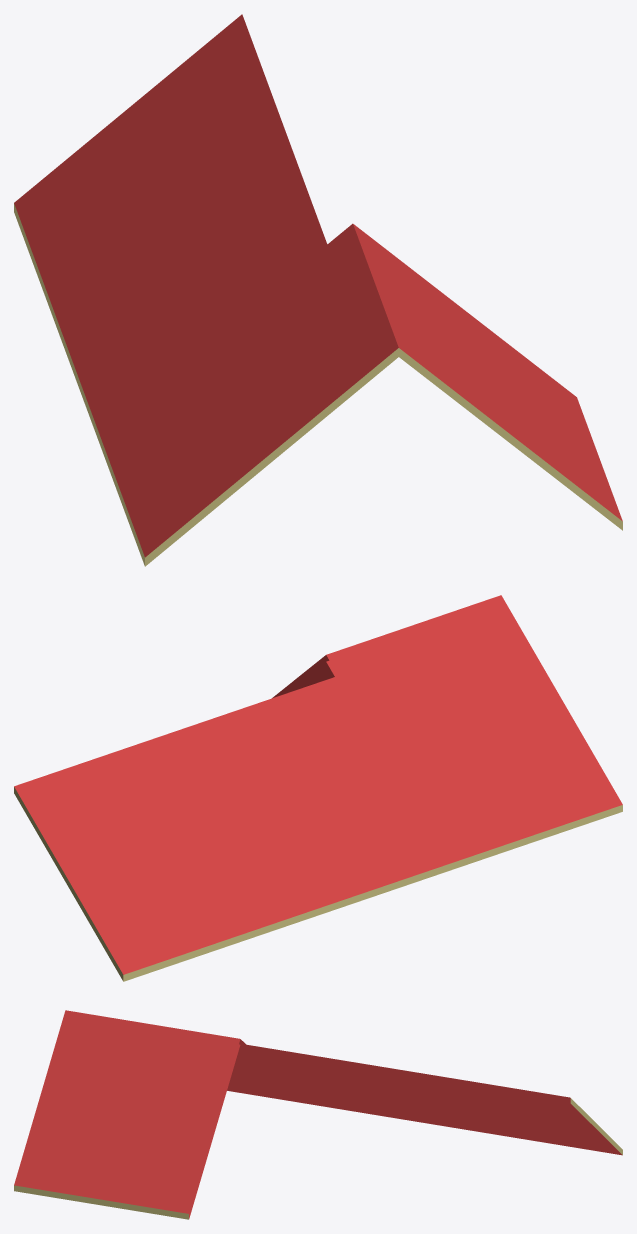
The picture shows the model from 3 angles, top to bottom: view 1: azimuth 30°, elevation 25°; view 2: azimuth 150°, elevation 25°; view 3: azimuth 270°, elevation 25°; orthographic projection. The views are drawn at different scales.
Bounding box in the file's own units: 5.5 × 9.52 × 2.2.
